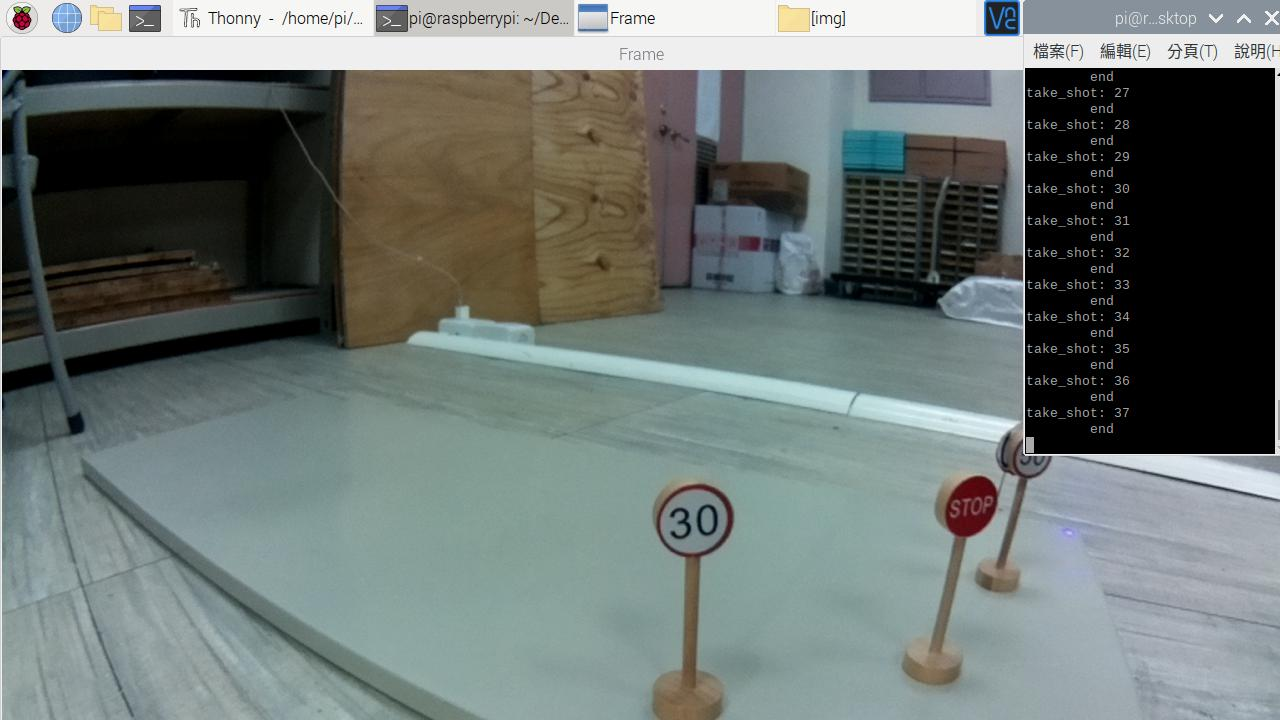Speed30: (659, 488, 732, 548)
Stop: (945, 487, 998, 538)
